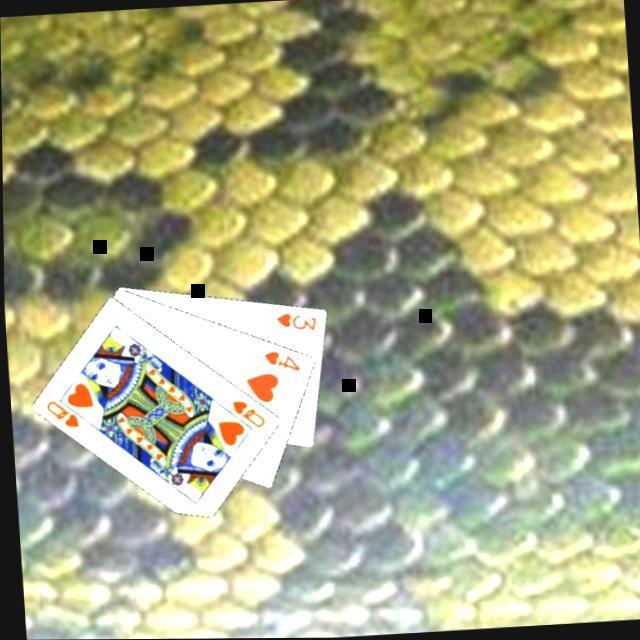3H: (273, 310, 320, 337)
4H: (260, 348, 303, 377)
QH: (43, 394, 93, 432), (229, 397, 269, 432)
